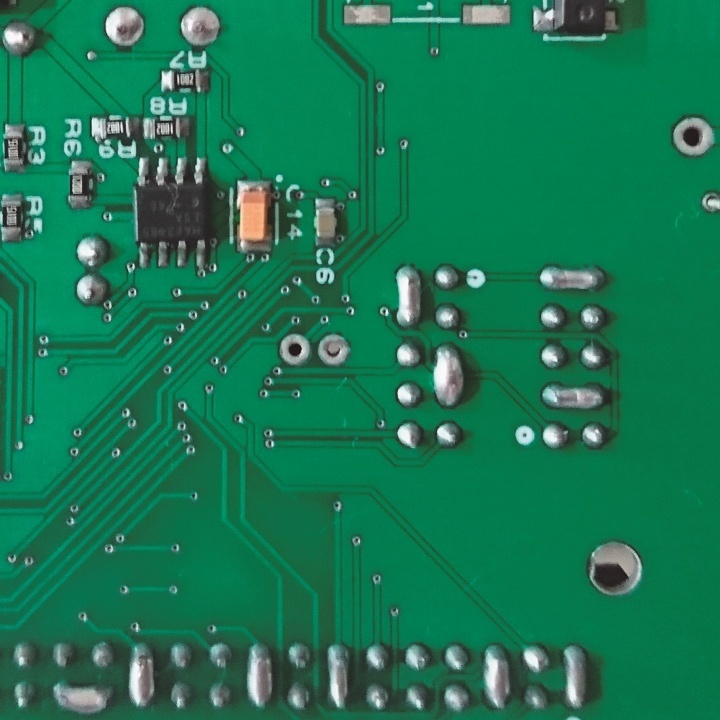F: (668, 115, 715, 160), (101, 6, 149, 50), (178, 7, 224, 46), (313, 331, 353, 366), (277, 332, 312, 366), (698, 193, 720, 218)
P: (428, 340, 467, 410), (48, 674, 114, 715), (538, 381, 614, 415), (535, 262, 609, 295), (125, 639, 157, 708), (246, 638, 276, 709), (560, 640, 589, 711), (481, 641, 510, 712), (393, 263, 422, 333), (324, 638, 347, 709)
